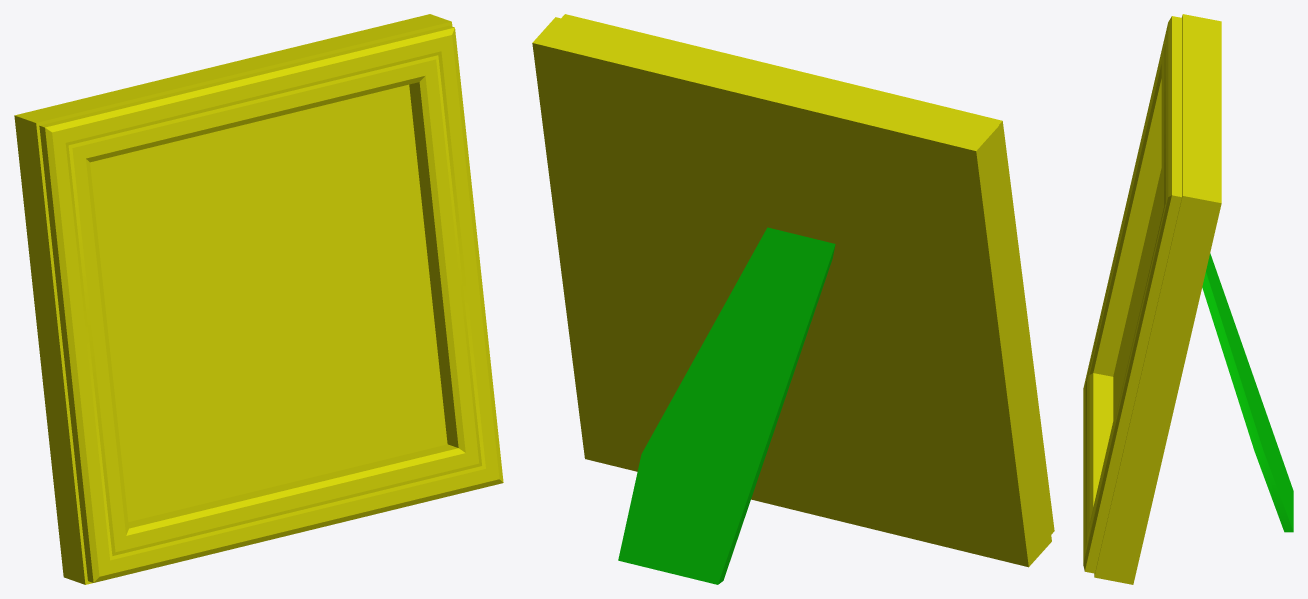
The model's file is frame_tiny.fbx.
The picture shows the model from 3 angles, left to right: view 1: azimuth 30°, elevation 25°; view 2: azimuth 150°, elevation 25°; view 3: azimuth 270°, elevation 25°; orthographic projection. The views are drawn at different scales.
Visible parts, largest first — view 1: photoframe; view 2: photoframe; view 3: photoframe.
Part boxes in pixels (x1=…): photoframe: x1=14, y1=14, x2=503, y2=584; photoframe: x1=532, y1=14, x2=1054, y2=584; photoframe: x1=1083, y1=14, x2=1293, y2=584.
Bounding box in the file's own units: 5 × 4.99 × 2.45.
